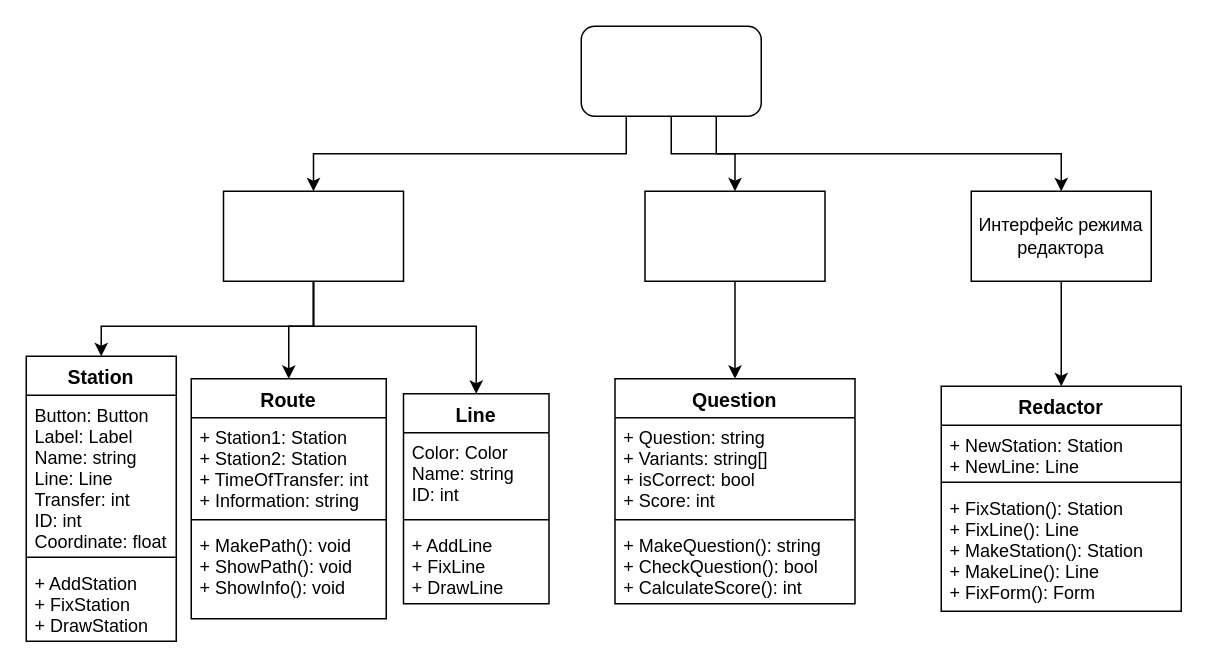
Image size: 1208x672. Some labels were removed from this diagram. Here are the shapes that lost their labels. From the top down, the centre of each, then its label:
At (670,70): "Программа".
At (313,235): "Интерфейс режима маршрута".
At (734,235): "Интерфейс режима викторины".
